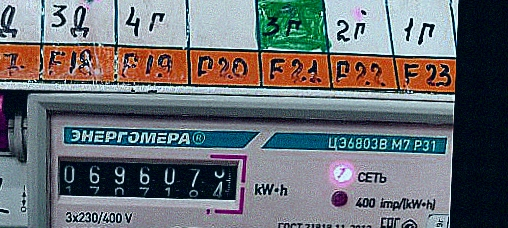0: (161, 163, 177, 186), (61, 163, 76, 184)
4: (211, 178, 224, 200)
6: (86, 163, 101, 184), (136, 164, 151, 185)
7: (186, 166, 202, 188)
9: (111, 163, 125, 185)
screen: (43, 145, 251, 212)
